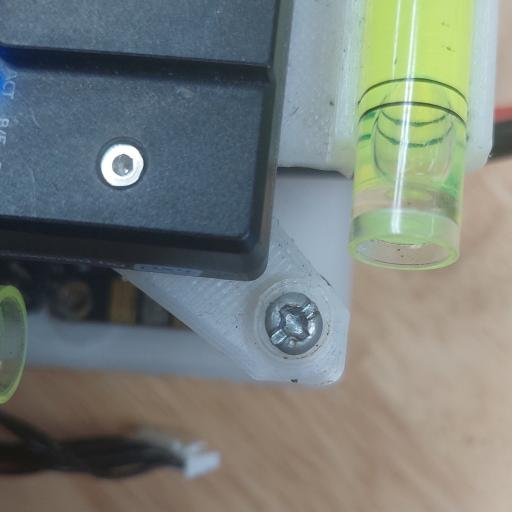Hex-Allen: (96, 139, 147, 190)
Phillips: (265, 289, 321, 355)
